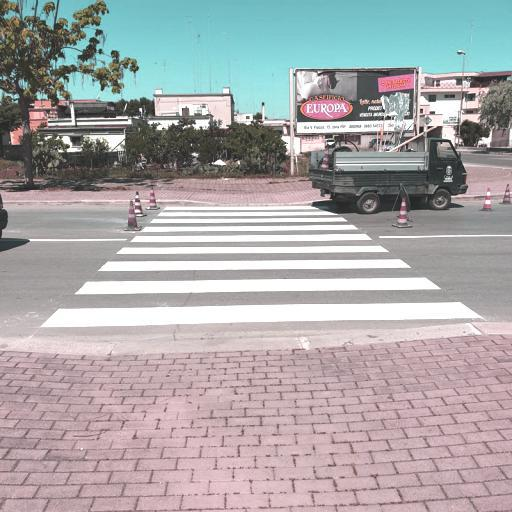crosswalk: (36, 273, 488, 329), (99, 232, 394, 258), (156, 203, 342, 217)
